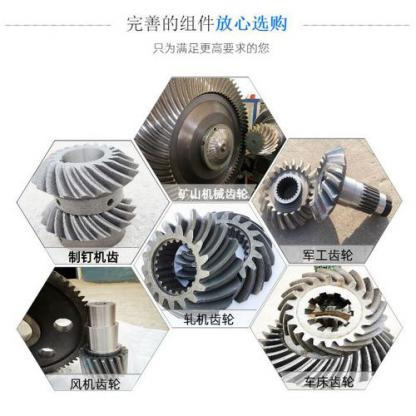FOD: (134, 76, 250, 199), (140, 209, 244, 325), (278, 266, 390, 356), (23, 136, 140, 214), (36, 270, 94, 377), (316, 145, 390, 225), (37, 194, 138, 249), (259, 156, 320, 232), (78, 342, 132, 386)
